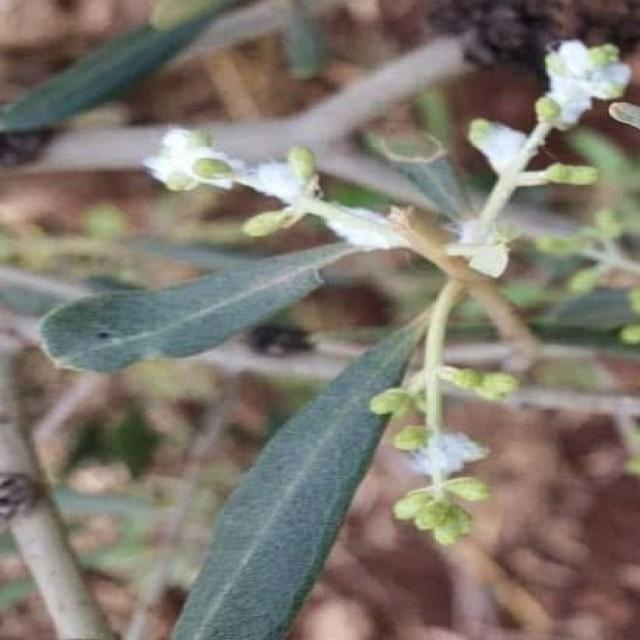Psyllid: (151, 41, 628, 542)
